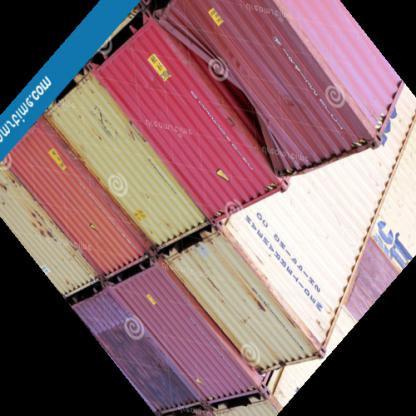Damage: (198, 57, 288, 155)
